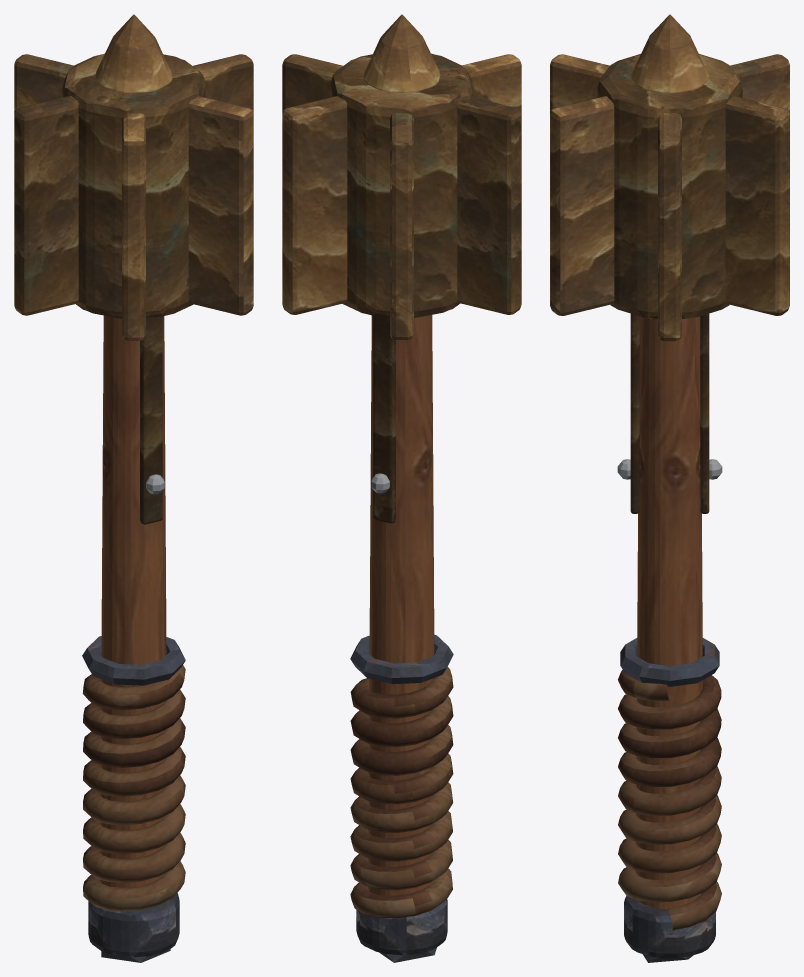
Rendered from mace_bronze.glb.
3 renders of one model, left to right at view 1: azimuth 30°, elevation 25°; view 2: azimuth 150°, elevation 25°; view 3: azimuth 270°, elevation 25°, orthographic.
Visible parts, largest first — view 1: model; view 2: model; view 3: model.
Part boxes in pixels (<box>): model: <box>14,14,253,962</box>; model: <box>282,14,521,962</box>; model: <box>550,14,789,962</box>.
Bounding box in the file's own units: 0.18 × 0.6971 × 0.1607.
9 materials, 8 textured.
